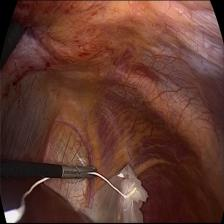Grasper: (65, 164, 99, 182)
Specimen Bag: (97, 161, 150, 224)
